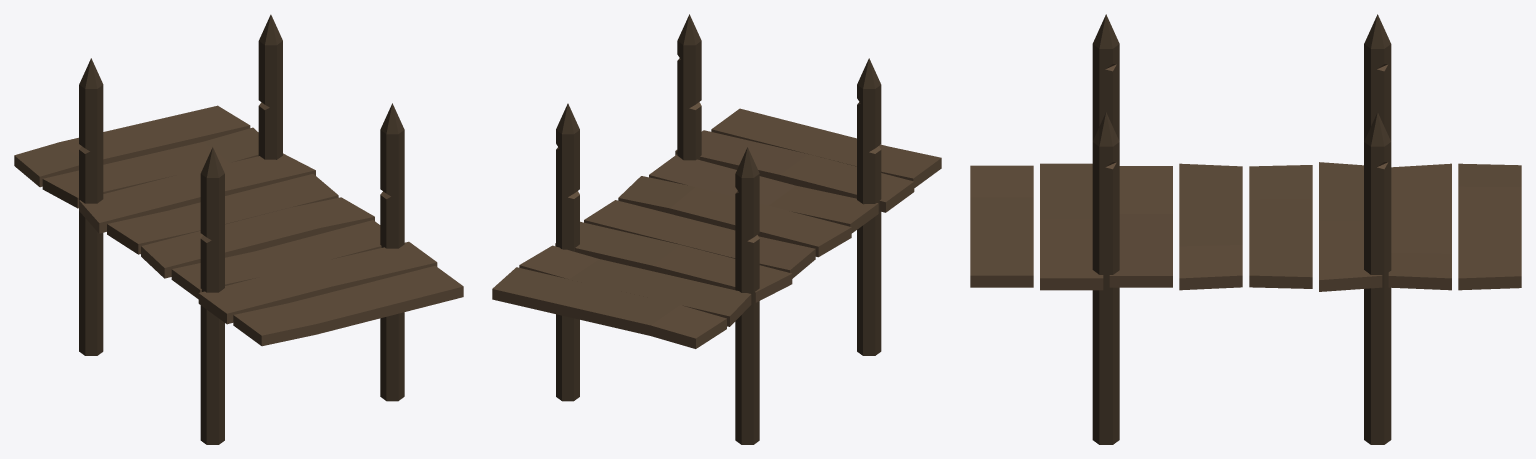
File: Bridge_5_Brown.fbx
The picture shows the model from 3 angles, left to right: view 1: azimuth 30°, elevation 25°; view 2: azimuth 150°, elevation 25°; view 3: azimuth 270°, elevation 25°; orthographic projection. The views are drawn at different scales.
Visible parts, largest first — view 1: Bridge_5_Brown_Part_1, Bridge_5_Brown_Part_5, Bridge_5_Brown_Part_4, Bridge_5_Brown_Part_2, Bridge_5_Brown_Part_3; view 2: Bridge_5_Brown_Part_1, Bridge_5_Brown_Part_5, Bridge_5_Brown_Part_4, Bridge_5_Brown_Part_3, Bridge_5_Brown_Part_2; view 3: Bridge_5_Brown_Part_1, Bridge_5_Brown_Part_3, Bridge_5_Brown_Part_2, Bridge_5_Brown_Part_4, Bridge_5_Brown_Part_5.
Boxes of the visible parts, x1,y1,x2,y2 form: Bridge_5_Brown_Part_1: [14, 105, 463, 346]; Bridge_5_Brown_Part_5: [79, 58, 103, 355]; Bridge_5_Brown_Part_4: [200, 147, 224, 444]; Bridge_5_Brown_Part_2: [380, 103, 404, 401]; Bridge_5_Brown_Part_3: [258, 14, 282, 159]; Bridge_5_Brown_Part_1: [492, 108, 941, 348]; Bridge_5_Brown_Part_5: [735, 147, 759, 444]; Bridge_5_Brown_Part_4: [857, 58, 881, 355]; Bridge_5_Brown_Part_3: [556, 103, 579, 401]; Bridge_5_Brown_Part_2: [677, 14, 701, 160]; Bridge_5_Brown_Part_1: [970, 162, 1521, 291]; Bridge_5_Brown_Part_3: [1364, 112, 1391, 444]; Bridge_5_Brown_Part_2: [1092, 112, 1119, 444]; Bridge_5_Brown_Part_4: [1092, 14, 1119, 140]; Bridge_5_Brown_Part_5: [1364, 14, 1391, 141].
Size of the model in its own units: 309 by 400 by 609.
